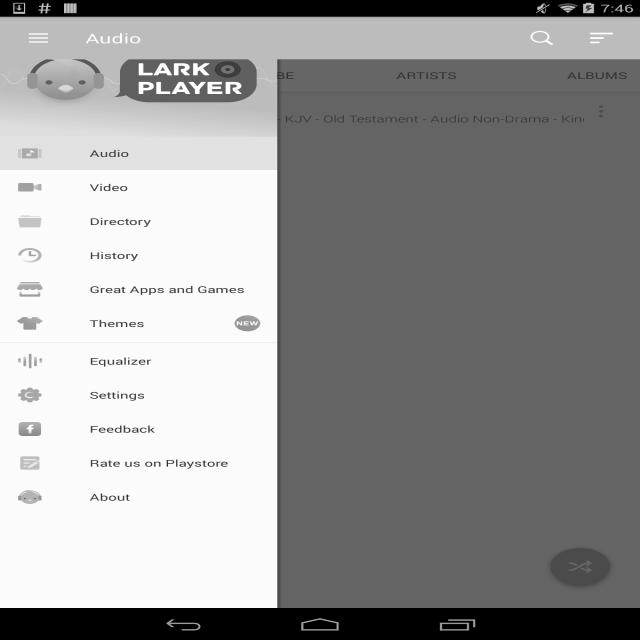ImageButton: (538, 536, 623, 597), (9, 19, 68, 57)
ImageView: (0, 16, 277, 136), (17, 344, 43, 378), (17, 378, 43, 412), (17, 412, 43, 446), (17, 446, 43, 480), (17, 480, 43, 514), (17, 137, 43, 170), (17, 171, 43, 204), (17, 205, 43, 238), (17, 239, 43, 272), (17, 273, 43, 306), (17, 307, 43, 340), (235, 307, 260, 340), (584, 101, 619, 122)
TextView: (21, 112, 584, 125), (77, 344, 260, 378), (77, 378, 260, 412), (77, 412, 260, 446), (77, 446, 260, 480), (77, 480, 260, 514), (77, 137, 260, 170), (77, 171, 260, 204), (77, 205, 260, 238), (77, 239, 260, 272), (77, 273, 260, 306), (76, 307, 235, 340), (512, 22, 572, 54), (572, 22, 631, 54), (21, 98, 104, 112), (86, 29, 142, 47), (217, 69, 294, 82), (396, 69, 457, 82), (567, 69, 627, 82), (61, 69, 110, 82)
